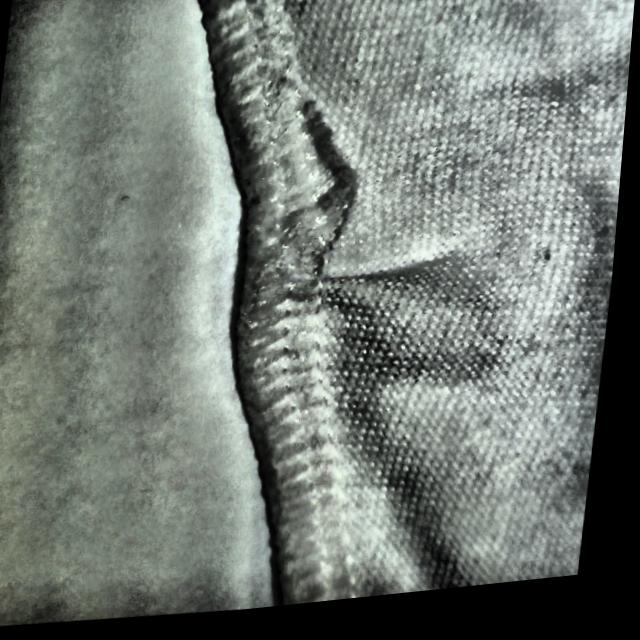seam: (235, 100, 449, 343)
